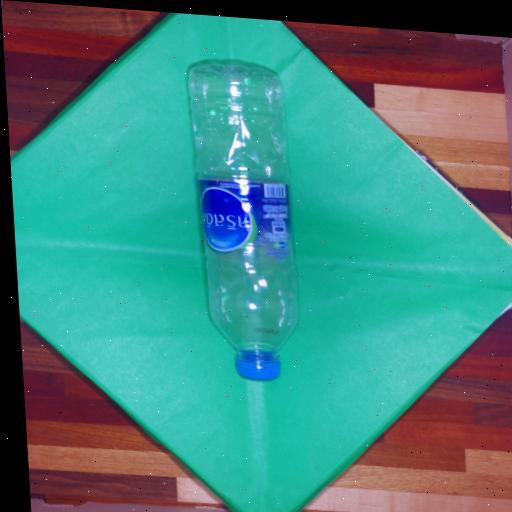bottle: (186, 60, 303, 387)
